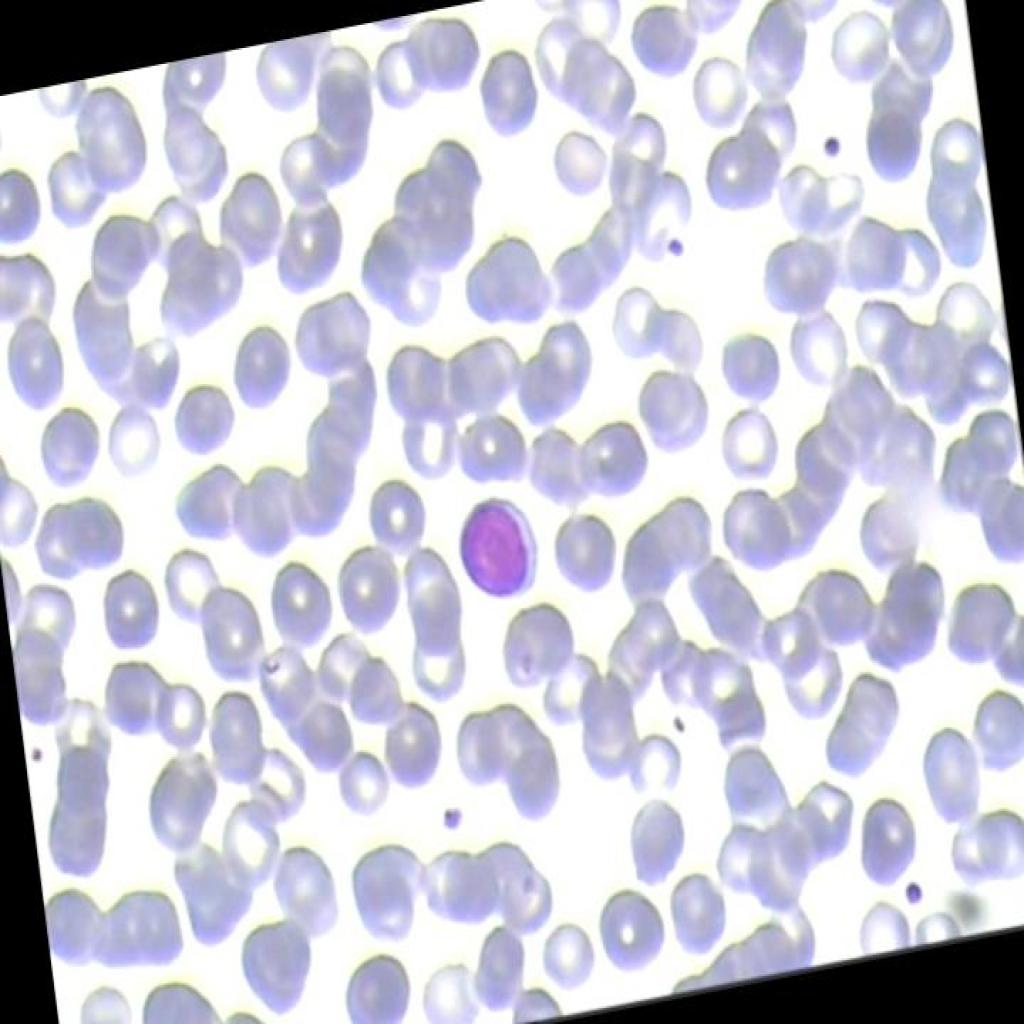Limfosit: (434, 478, 544, 620)
Platelet: (883, 862, 929, 921), (652, 213, 692, 274), (428, 789, 472, 843), (812, 117, 845, 167), (23, 734, 47, 774)
